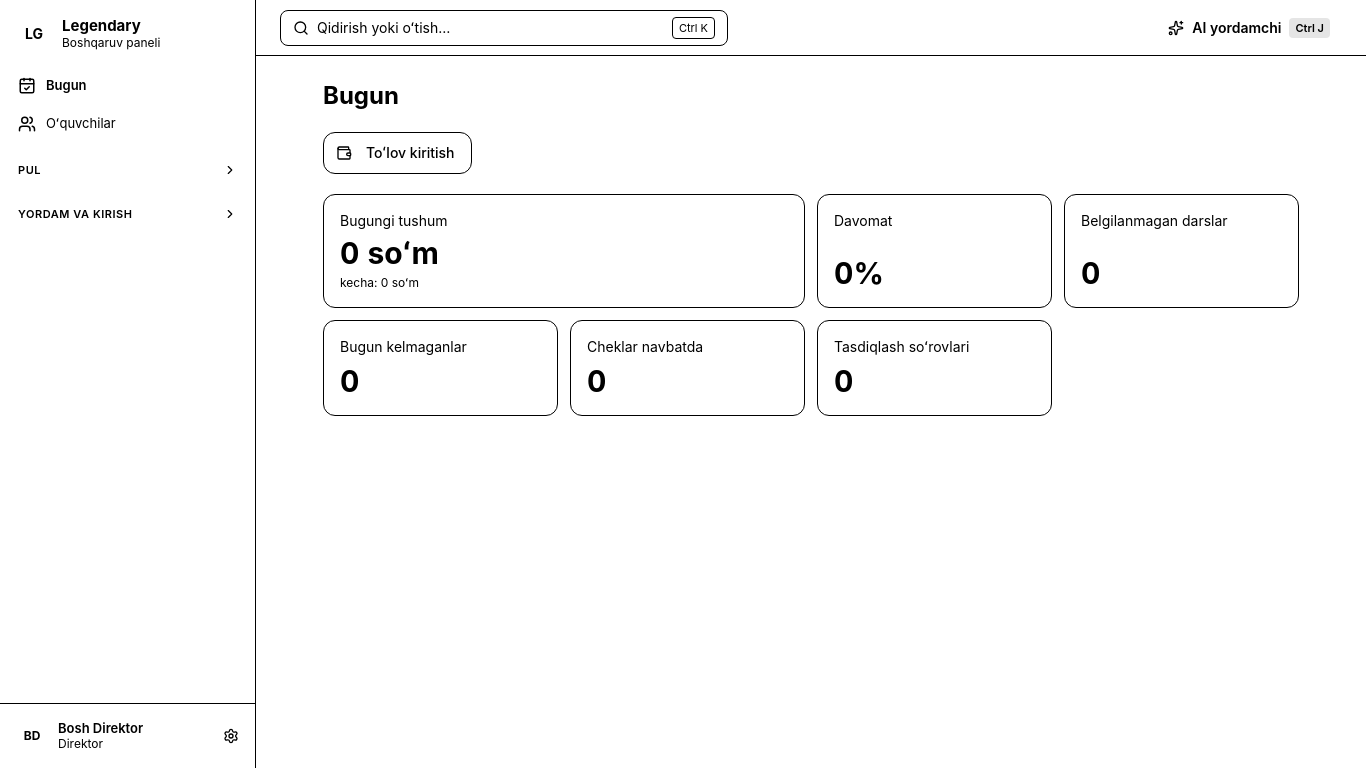
Test: MS-01 bosh sahifa (Q-99): tashqi panel yoʻq › MainButton yoʻq (Q-113); «Toʻlov kiritish» — tezkor amal; tashqi havola ochilmaydi
The image size is (1366, 768).
Click the button "Toʻlov kiritish". click: (397, 153)
box: [323, 132, 472, 174]
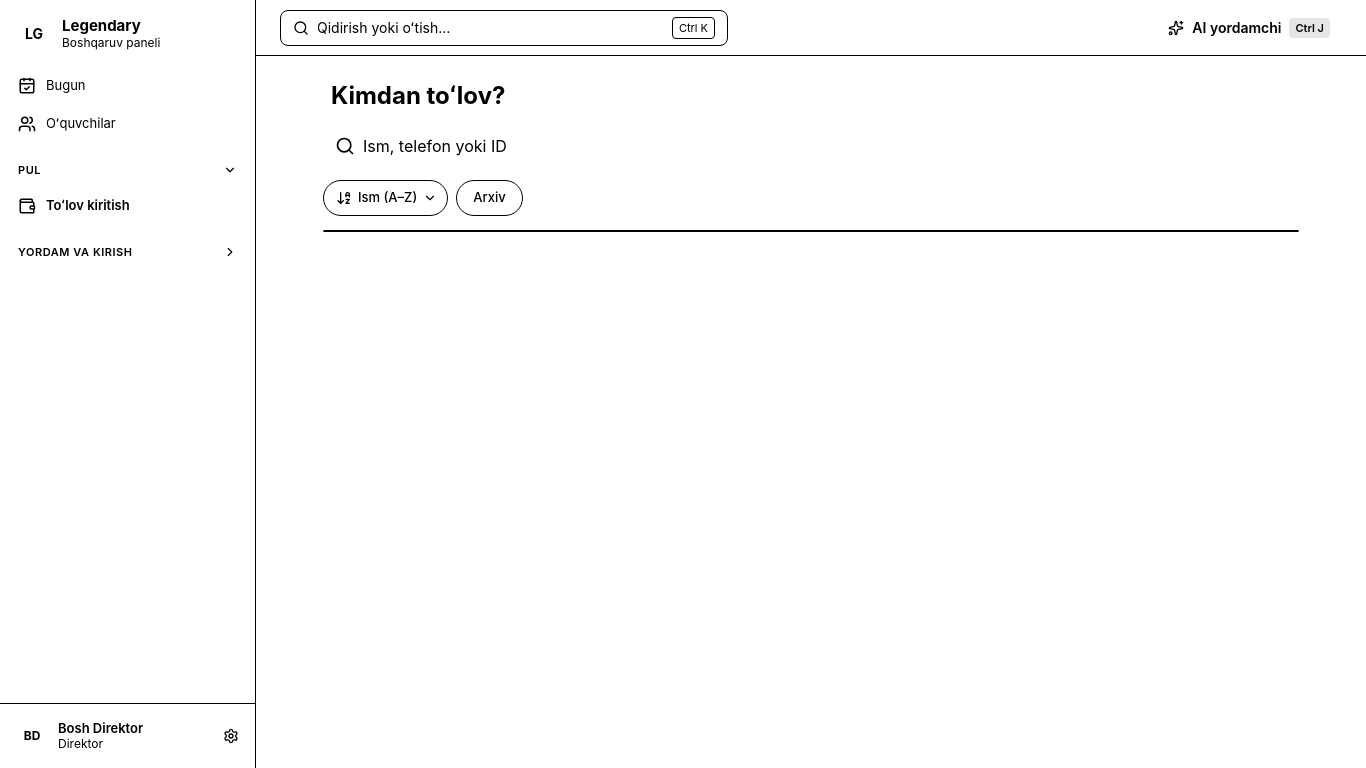
expect the heading "Kimdan toʻlov?" is shown: met, box [331, 81, 506, 110]
